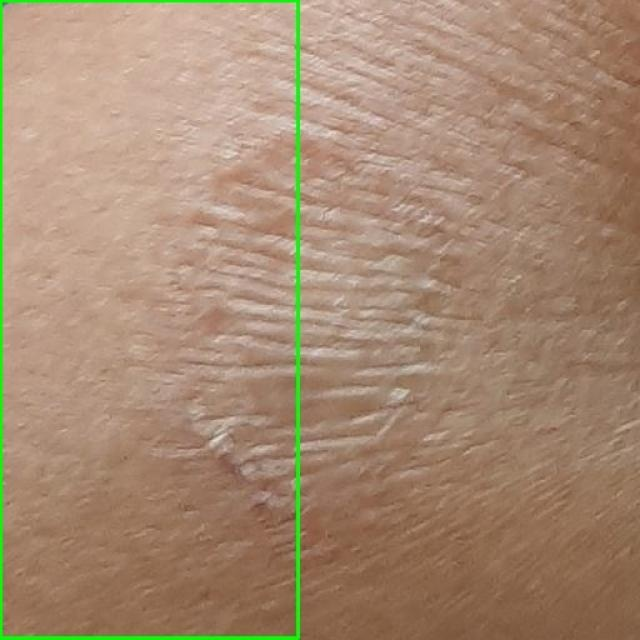Tinea Corporis: (0, 0, 299, 639)
